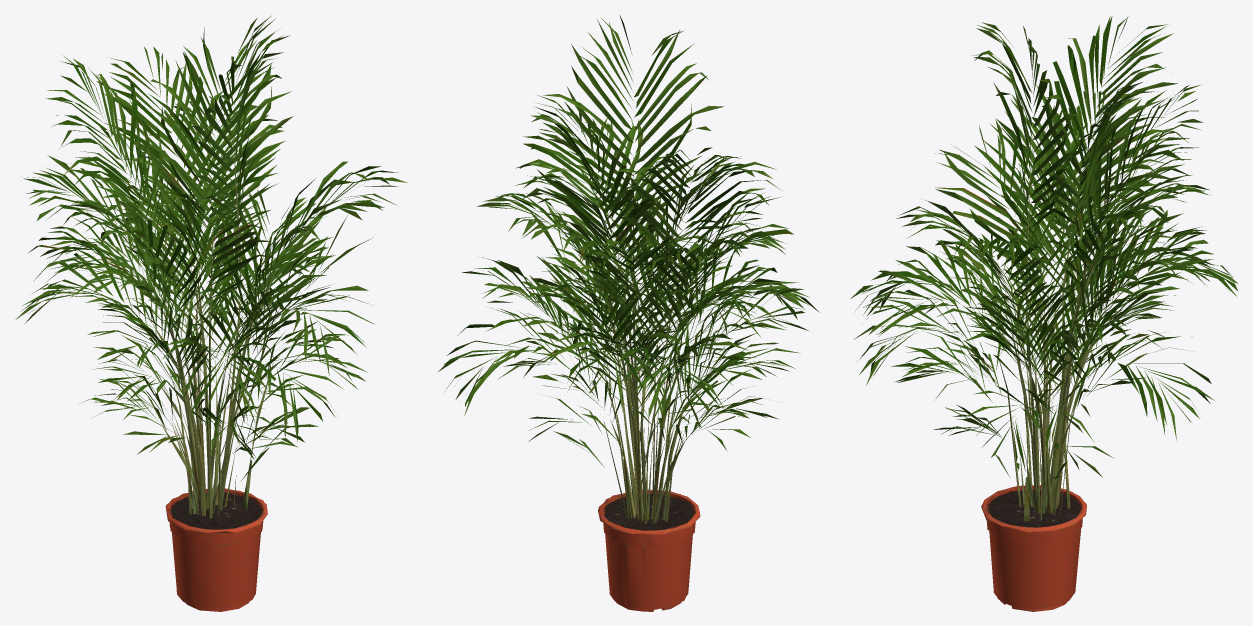
Rendered from dypsis_lutescens_roslina_doniczkowa_46804005.glb.
The picture shows the model from 3 angles, left to right: view 1: azimuth 30°, elevation 25°; view 2: azimuth 150°, elevation 25°; view 3: azimuth 270°, elevation 25°; orthographic projection. The views are drawn at different scales.
Parts seen in each view (by area): view 1: dypsis_lutescens_roslina_doniczkowa_46804005; view 2: dypsis_lutescens_roslina_doniczkowa_46804005; view 3: dypsis_lutescens_roslina_doniczkowa_46804005.
Boxes of the visible parts, box(x1,y1,x2,y2) form: dypsis_lutescens_roslina_doniczkowa_46804005: box(15, 15, 407, 611); dypsis_lutescens_roslina_doniczkowa_46804005: box(437, 15, 819, 611); dypsis_lutescens_roslina_doniczkowa_46804005: box(850, 16, 1237, 611).
Size of the model in its own units: 0.8532 by 1.47 by 0.8783.
Materials: 1 (1 with a texture image).
